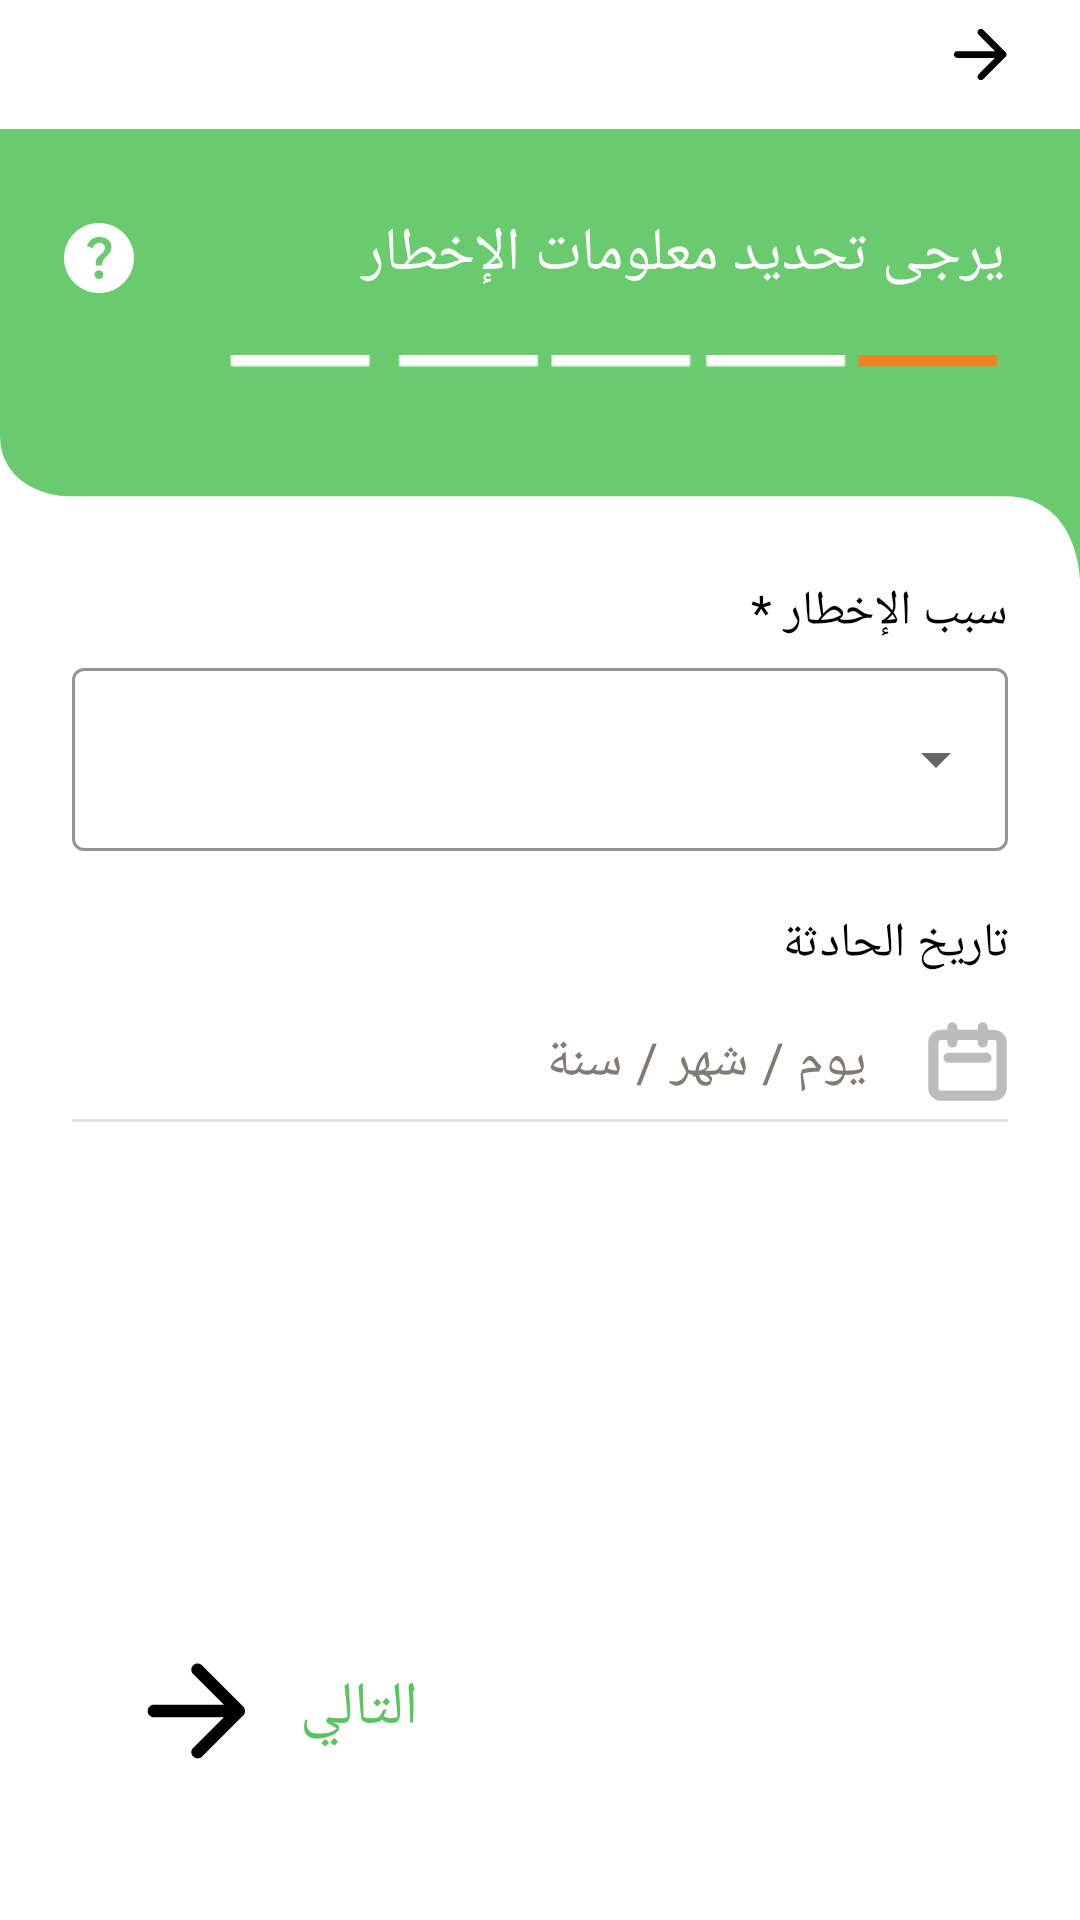

Screen size 1080px x 1920px. Icon name, then its center in pixels as (x,y):
calendar: (967,1061)
question: (99,258)
